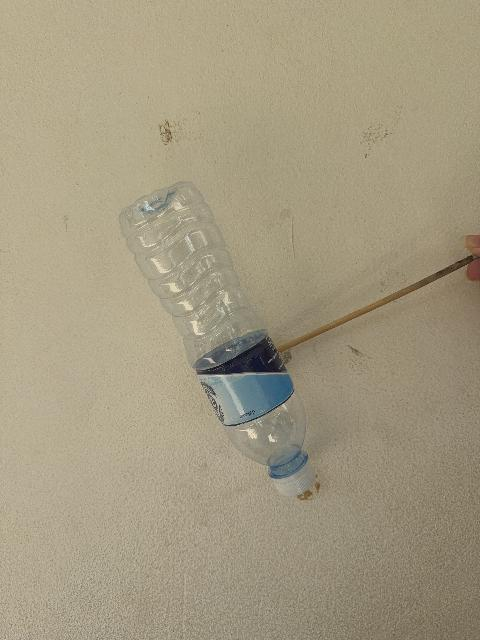bottle: (120, 182, 314, 495)
